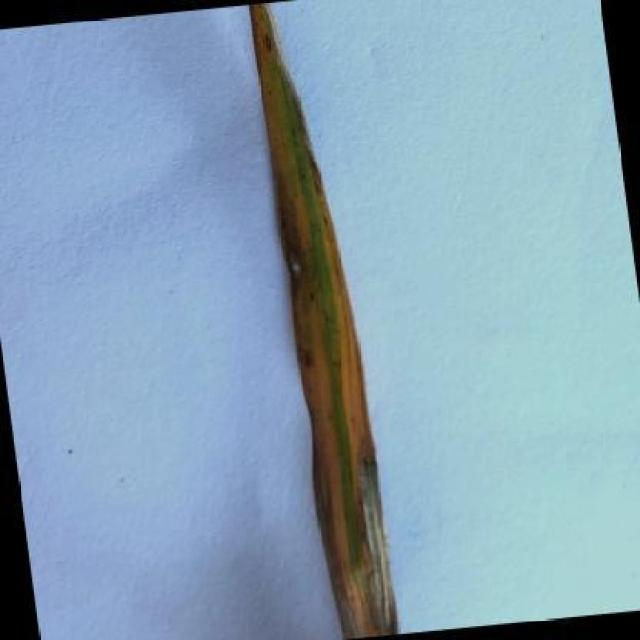Rice False Smut: (250, 5, 397, 638)
